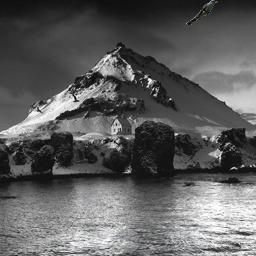Cuckoo: (186, 0, 218, 25)
